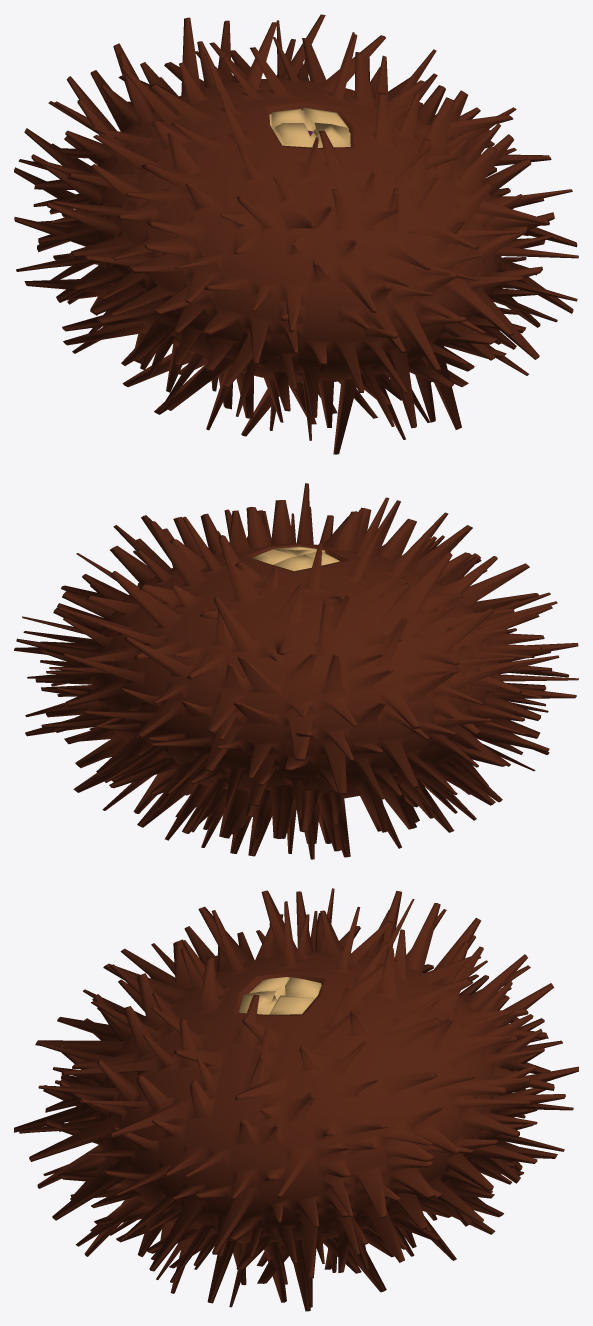
Rendered from kina.glb.
3 views of the same model, one above another, from view 1: azimuth 30°, elevation 25°; view 2: azimuth 150°, elevation 25°; view 3: azimuth 270°, elevation 25° (orthographic). The views are drawn at different scales.
Visible parts, largest first — view 1: Plane.022; view 2: Plane.022; view 3: Plane.022.
Boxes of the visible parts, <box> form: Plane.022: <box>14,14,578,454</box>; Plane.022: <box>14,483,578,859</box>; Plane.022: <box>14,888,578,1311</box>.
Bounding box in the file's own units: 0.212 × 0.1359 × 0.2119.
